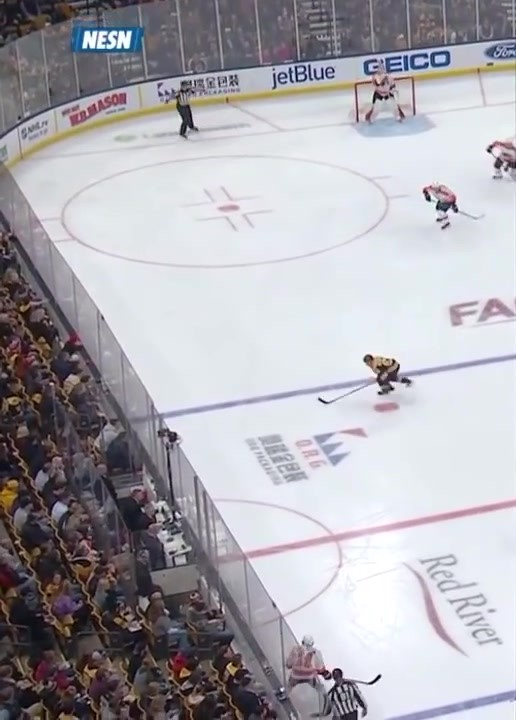Geico: (359, 43, 465, 81)
